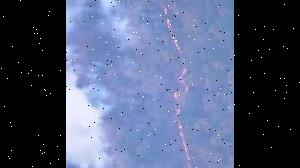fire: (175, 55, 190, 148), (155, 0, 181, 51), (182, 149, 200, 168)
